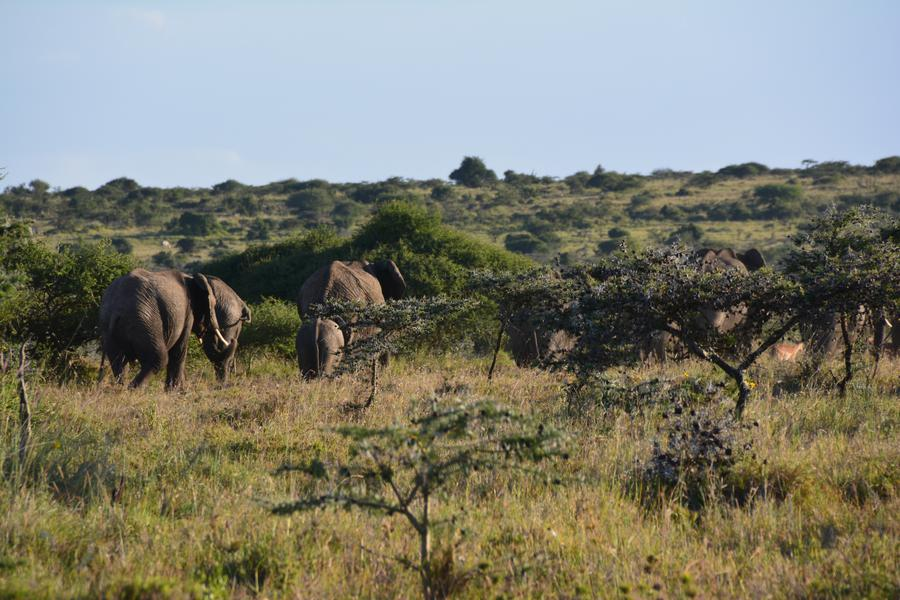elephant: (97, 269, 214, 379), (292, 311, 348, 375)
